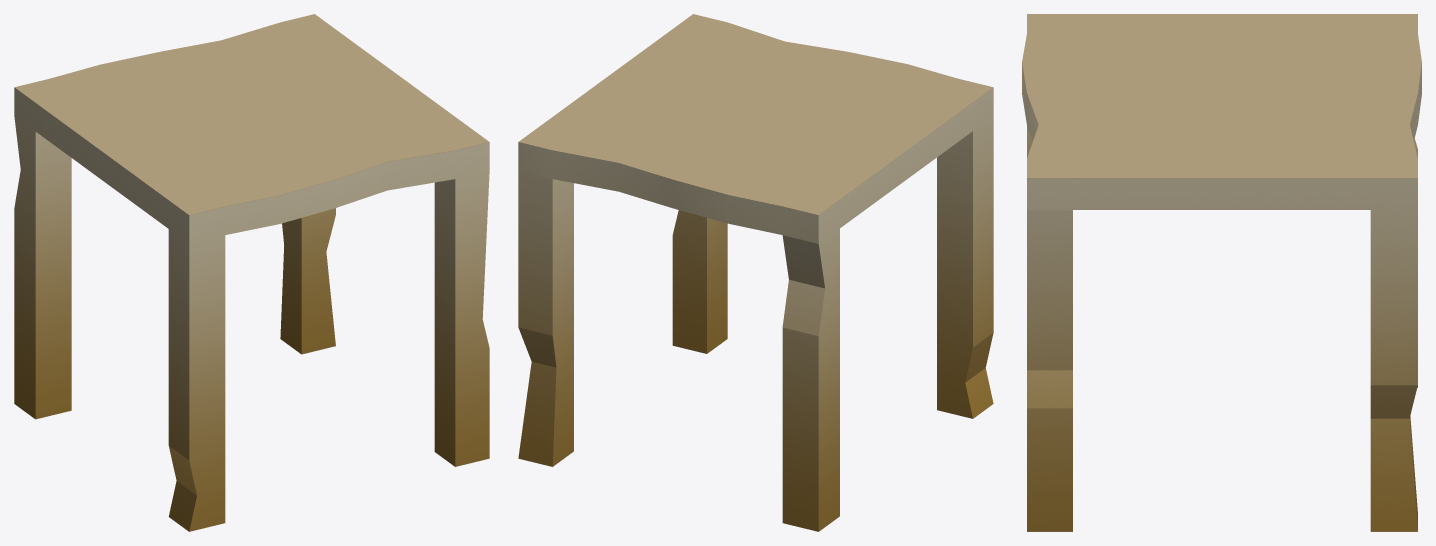
File: Small_table.FBX
3 views of the same model, side by side, from view 1: azimuth 30°, elevation 25°; view 2: azimuth 150°, elevation 25°; view 3: azimuth 270°, elevation 25° (orthographic). The views are drawn at different scales.
Parts seen in each view (by area): view 1: Small _table; view 2: Small _table; view 3: Small _table.
Part boxes in pixels (left/top/right/bottom): Small _table: left=14, top=14, right=489, bottom=531; Small _table: left=518, top=14, right=993, bottom=531; Small _table: left=1022, top=14, right=1421, bottom=531.
Bounding box in the file's own units: 15.26 × 15.37 × 15.74.
Materials: 1 (1 with a texture image).
